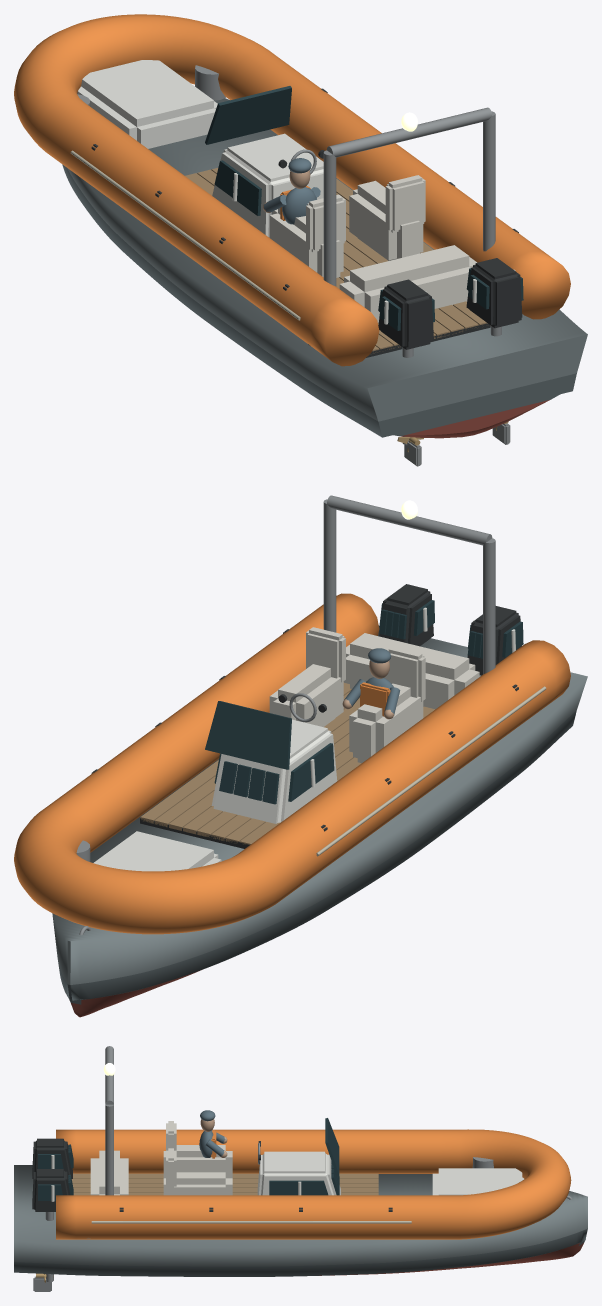
Rendered from rib.glb.
3 renders of one model, top to bottom at view 1: azimuth 30°, elevation 25°; view 2: azimuth 150°, elevation 25°; view 3: azimuth 270°, elevation 25°, orthographic. The views are drawn at different scales.
Parts seen in each view (by area): view 1: orange, hull, canvas, white, stripe, metal, black, window, teak, bottom, uniform, sand; view 2: orange, hull, canvas, window, white, stripe, metal, teak, black, sand, uniform, bottom; view 3: orange, hull, stripe, white, canvas, teak, window, metal, black, sand, bottom, uniform.
Part boxes in pixels (x1,y1,x2,y2): orange: [14, 14, 570, 366]; hull: [67, 98, 587, 421]; canvas: [269, 175, 476, 322]; white: [77, 60, 515, 324]; stripe: [62, 164, 576, 437]; metal: [77, 65, 510, 466]; black: [278, 150, 522, 357]; window: [205, 86, 523, 330]; teak: [185, 168, 487, 353]; bottom: [401, 399, 550, 438]; uniform: [264, 158, 320, 224]; sand: [70, 150, 300, 320]; orange: [14, 593, 570, 934]; hull: [52, 625, 587, 984]; canvas: [269, 627, 479, 763]; window: [205, 600, 523, 804]; white: [93, 598, 515, 871]; stripe: [57, 710, 576, 1004]; metal: [76, 495, 540, 935]; teak: [140, 681, 434, 844]; black: [140, 584, 521, 848]; sand: [316, 686, 546, 856]; uniform: [344, 648, 400, 714]; bottom: [71, 970, 201, 1017]; orange: [56, 1129, 571, 1239]; hull: [14, 1165, 587, 1266]; stripe: [14, 1228, 587, 1276]; white: [51, 1151, 524, 1201]; canvas: [90, 1121, 232, 1195]; teak: [71, 1173, 378, 1195]; window: [38, 1118, 339, 1200]; metal: [33, 1046, 572, 1291]; black: [32, 1138, 260, 1211]; sand: [91, 1221, 411, 1223]; bottom: [319, 1243, 583, 1275]; uniform: [199, 1110, 225, 1157].
Size of the model in its own units: 3.4 by 3.93 by 9.6.
